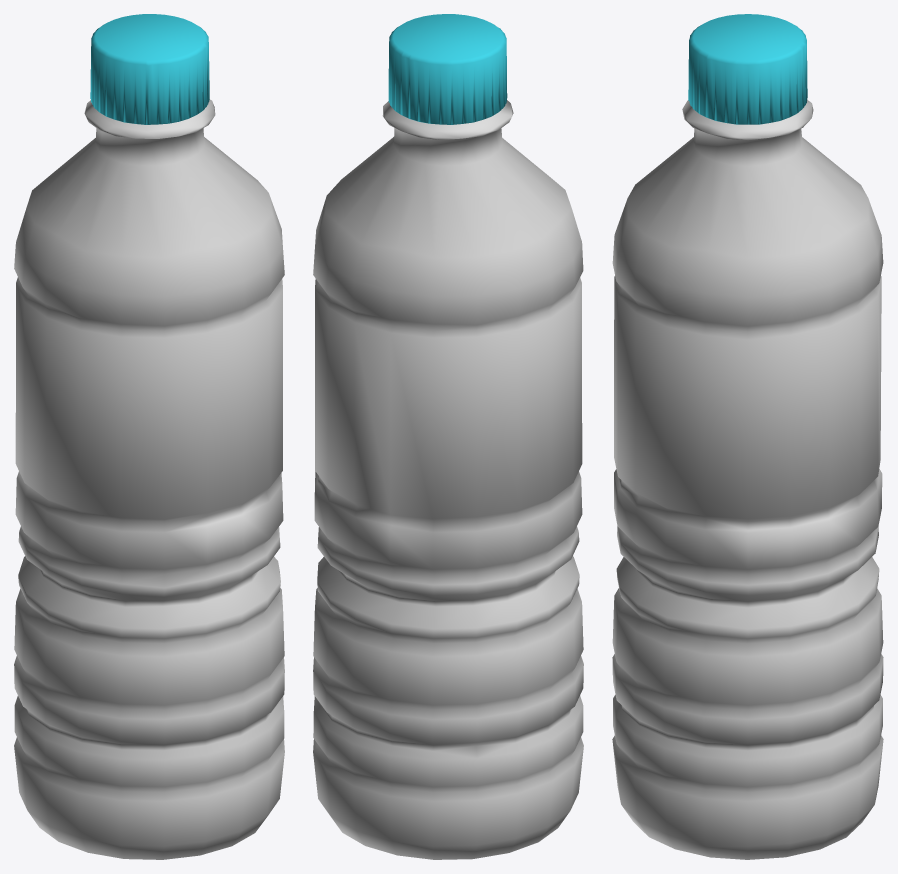
Rendered from Iso muovipullo korkilla.fbx.
The picture shows the model from 3 angles, left to right: view 1: azimuth 30°, elevation 25°; view 2: azimuth 150°, elevation 25°; view 3: azimuth 270°, elevation 25°; orthographic projection.
Parts seen in each view (by area): view 1: Pullo ja korkki; view 2: Pullo ja korkki; view 3: Pullo ja korkki.
Boxes of the visible parts, x1,y1,x2,y2 form: Pullo ja korkki: (14,14,284,859); Pullo ja korkki: (313,14,583,859); Pullo ja korkki: (612,14,883,859).
Size of the model in its own units: 9.96 by 32 by 10.
